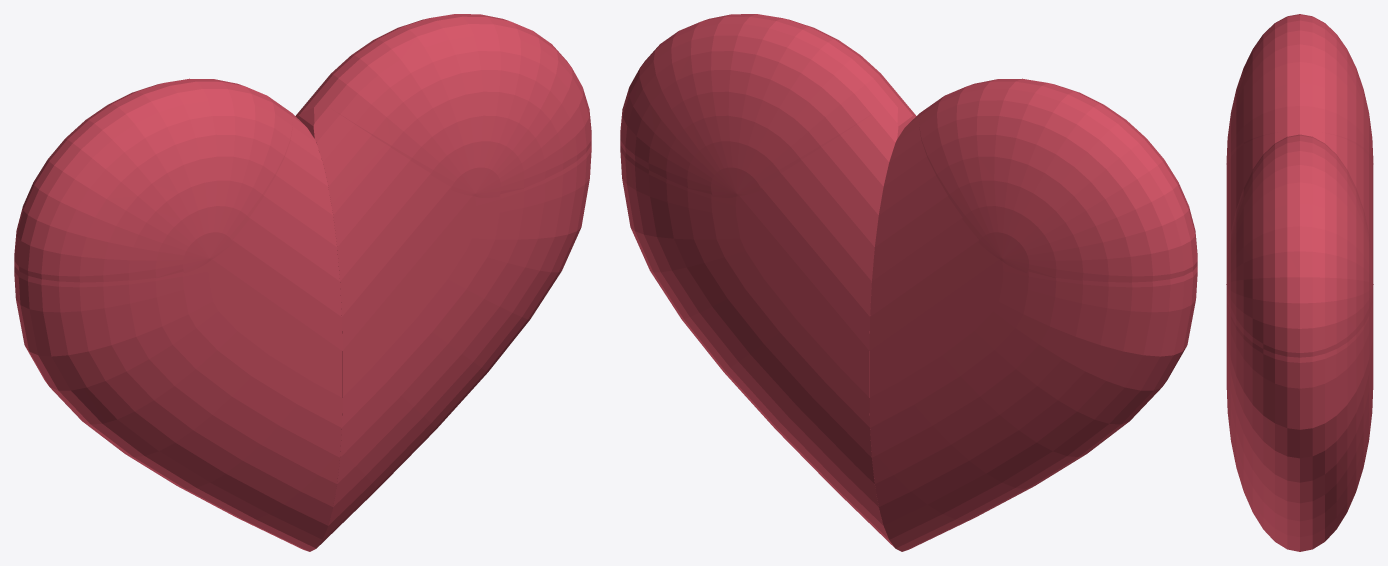
The picture shows the model from 3 angles, left to right: view 1: azimuth 30°, elevation 25°; view 2: azimuth 150°, elevation 25°; view 3: azimuth 270°, elevation 25°; orthographic projection. The views are drawn at different scales.
Visible parts, largest first — view 1: Mesh_Mesh_head_geo.001_lambert2SG.001; view 2: Mesh_Mesh_head_geo.001_lambert2SG.001; view 3: Mesh_Mesh_head_geo.001_lambert2SG.001.
Part boxes in pixels (x1,y1,x2,y2): Mesh_Mesh_head_geo.001_lambert2SG.001: [14, 14, 591, 551]; Mesh_Mesh_head_geo.001_lambert2SG.001: [620, 14, 1197, 551]; Mesh_Mesh_head_geo.001_lambert2SG.001: [1226, 14, 1373, 551].
Size of the model in its own units: 53.95 by 45 by 13.
